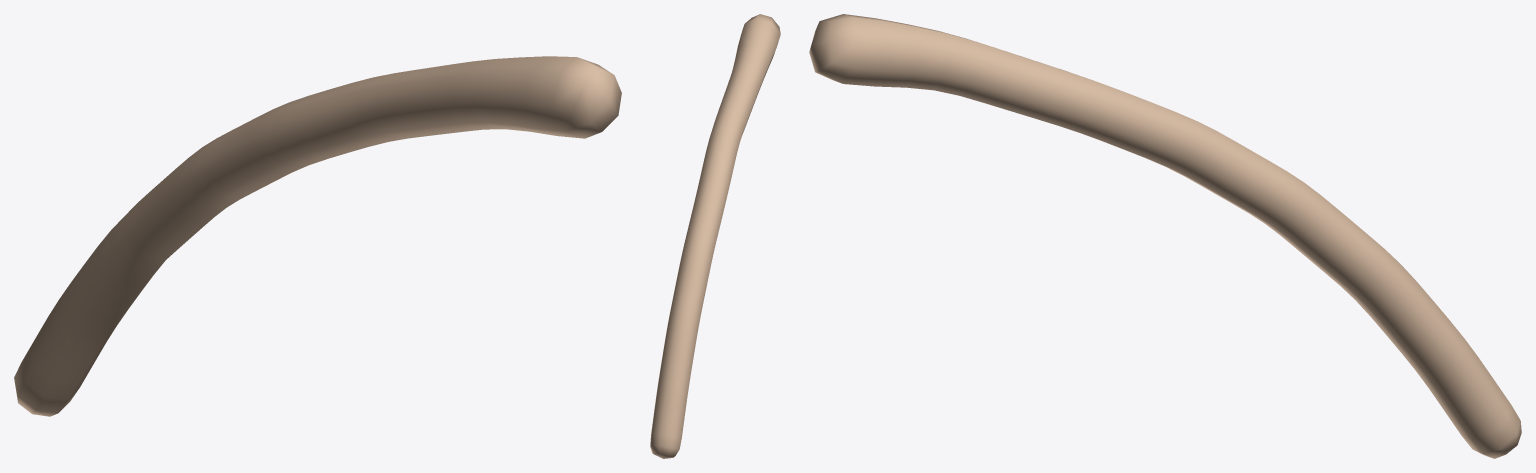
The picture shows the model from 3 angles, left to right: view 1: azimuth 30°, elevation 25°; view 2: azimuth 150°, elevation 25°; view 3: azimuth 270°, elevation 25°; orthographic projection. The views are drawn at different scales.
Visible parts, largest first — view 1: 左侧踇长伸肌腱鞘; view 2: 左侧踇长伸肌腱鞘; view 3: 左侧踇长伸肌腱鞘.
Boxes of the visible parts, x1,y1,x2,y2 form: 左侧踇长伸肌腱鞘: (14,56,621,416); 左侧踇长伸肌腱鞘: (650,14,780,458); 左侧踇长伸肌腱鞘: (809,14,1521,458).
Size of the model in its own units: 0.0392 by 0.0917 by 0.1152.
